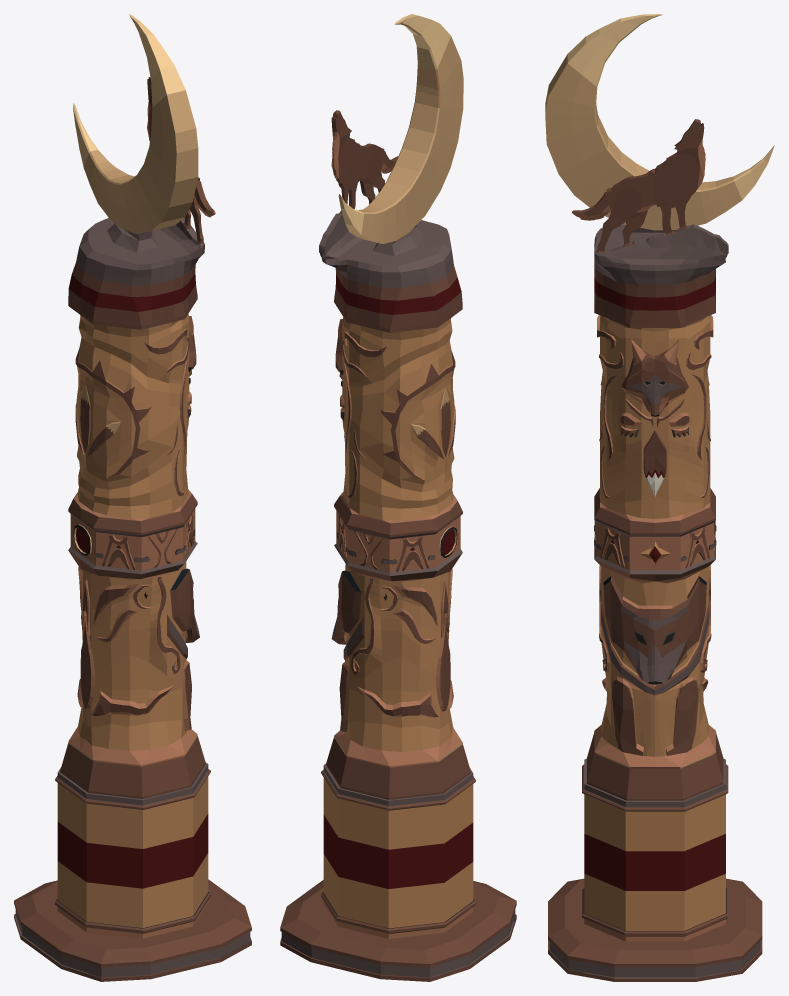
The model's file is Totem_Of_The_Moon.fbx.
3 renders of one model, left to right at view 1: azimuth 30°, elevation 25°; view 2: azimuth 150°, elevation 25°; view 3: azimuth 270°, elevation 25°, orthographic.
Parts seen in each view (by area): view 1: Totem of the Moon.001; view 2: Totem of the Moon.001; view 3: Totem of the Moon.001.
Boxes of the visible parts, x1,y1,x2,y2 form: Totem of the Moon.001: (14,14,251,981); Totem of the Moon.001: (280,14,516,981); Totem of the Moon.001: (545,14,774,981).
Bounding box in the file's own units: 200 × 950 × 214.
